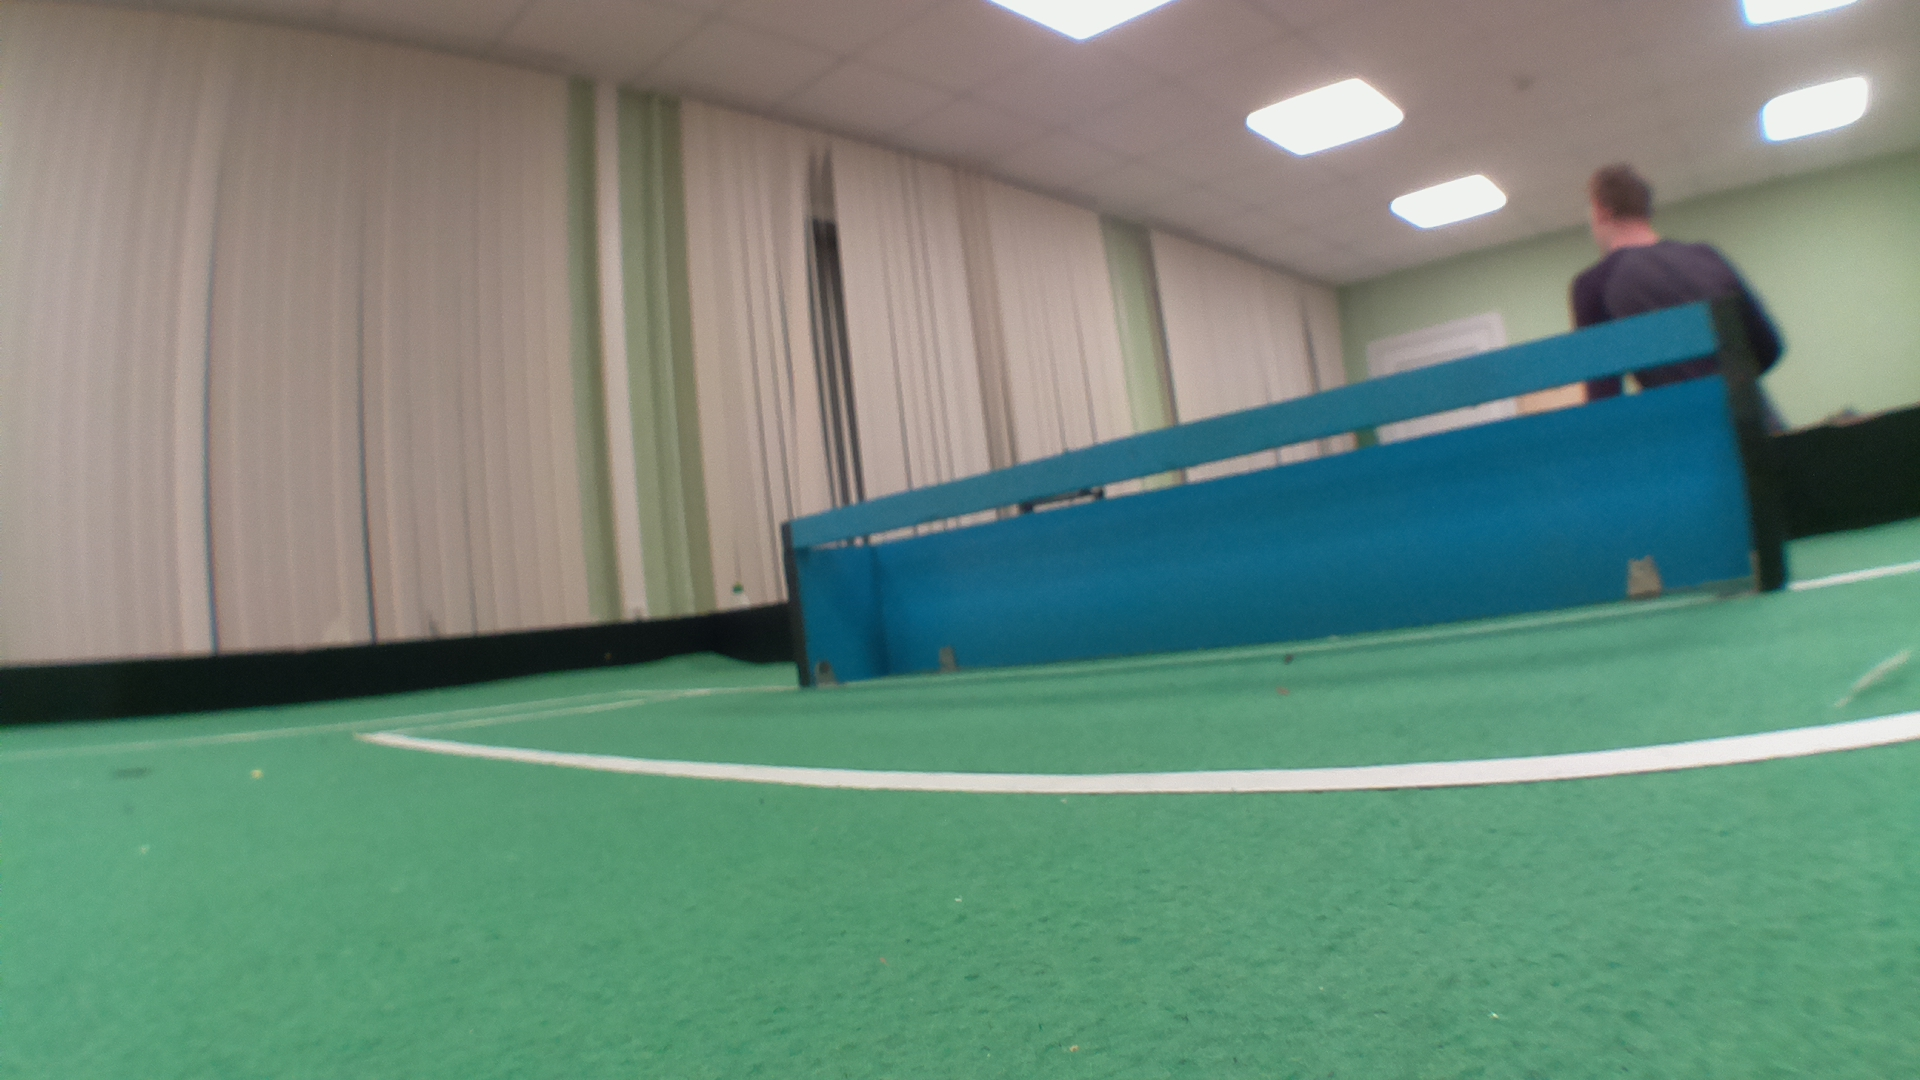BlueGoal: (808, 301, 1733, 682)
